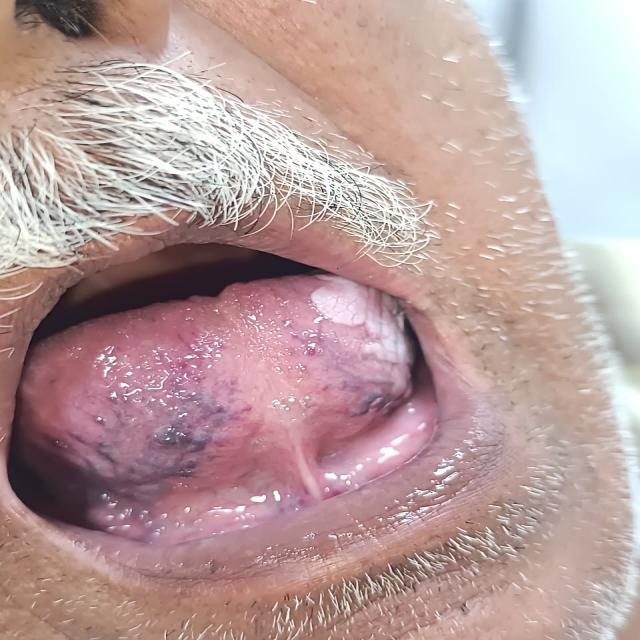leukoplakia-detection: (284, 273, 430, 396)
processing_area: (10, 270, 444, 548)
